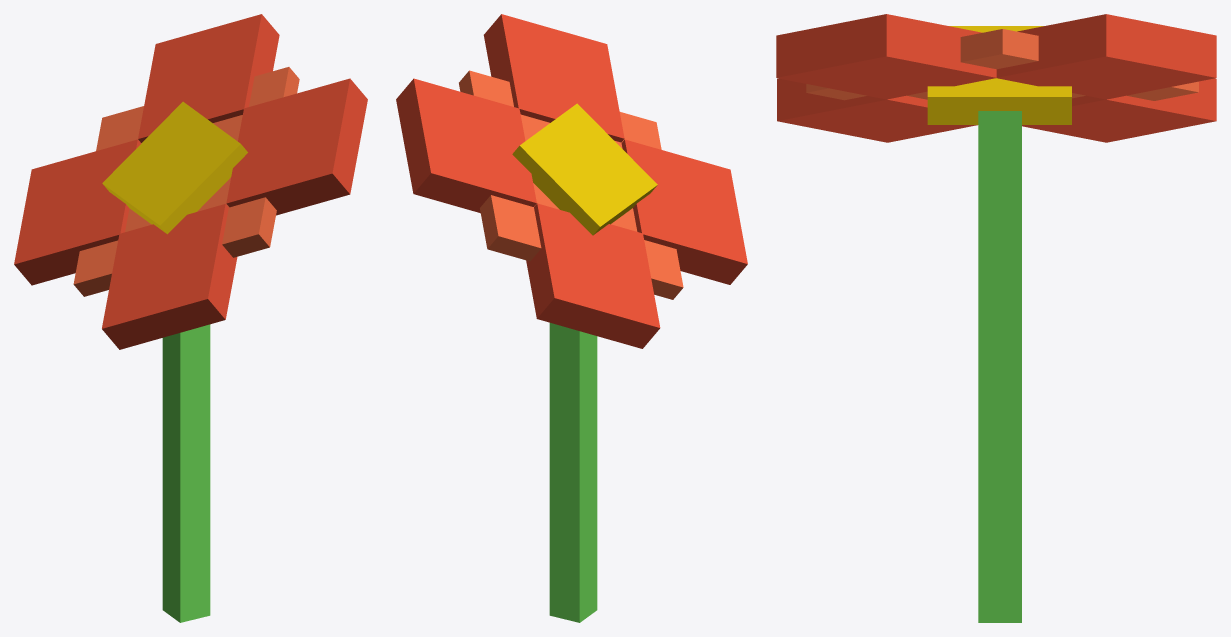
The model's file is Flower.fbx.
3 renders of one model, left to right at view 1: azimuth 30°, elevation 25°; view 2: azimuth 150°, elevation 25°; view 3: azimuth 270°, elevation 25°, orthographic. The views are drawn at different scales.
Visible parts, largest first — view 1: Cube, Cube.008, Cube.007, Cube.009, Cube.006, Cube.001, Cube.004, Cube.005, Cube.002, Cube.003; view 2: Cube, Cube.009, Cube.006, Cube.008, Cube.007, Cube.001, Cube.003, Cube.005, Cube.002, Cube.004; view 3: Cube, Cube.007, Cube.006, Cube.008, Cube.009, Cube.001, Cube.002, Cube.003.
Boxes of the visible parts, bbox=[...] form: Cube: bbox=[162, 324, 210, 622]; Cube.008: bbox=[102, 204, 237, 349]; Cube.007: bbox=[226, 78, 367, 215]; Cube.009: bbox=[14, 139, 140, 285]; Cube.006: bbox=[138, 14, 279, 142]; Cube.001: bbox=[102, 101, 247, 234]; Cube.004: bbox=[197, 177, 276, 257]; Cube.005: bbox=[73, 208, 151, 296]; Cube.002: bbox=[213, 67, 299, 141]; Cube.003: bbox=[96, 106, 143, 150]; Cube: bbox=[549, 323, 597, 622]; Cube.009: bbox=[526, 203, 660, 348]; Cube.006: bbox=[396, 78, 536, 212]; Cube.008: bbox=[621, 139, 747, 284]; Cube.007: bbox=[483, 14, 624, 142]; Cube.001: bbox=[512, 103, 657, 235]; Cube.003: bbox=[480, 183, 559, 261]; Cube.005: bbox=[611, 208, 683, 299]; Cube.002: bbox=[459, 70, 549, 140]; Cube.004: bbox=[614, 112, 661, 149]; Cube: bbox=[978, 111, 1021, 622]; Cube.007: bbox=[776, 14, 996, 99]; Cube.006: bbox=[996, 14, 1216, 99]; Cube.008: bbox=[777, 78, 977, 142]; Cube.009: bbox=[1022, 78, 1216, 142]; Cube.001: bbox=[927, 26, 1071, 124]; Cube.002: bbox=[960, 29, 1038, 69]; Cube.003: bbox=[1072, 81, 1198, 100].
Bounding box in the file's own units: 19.31 × 37.44 × 22.26.
